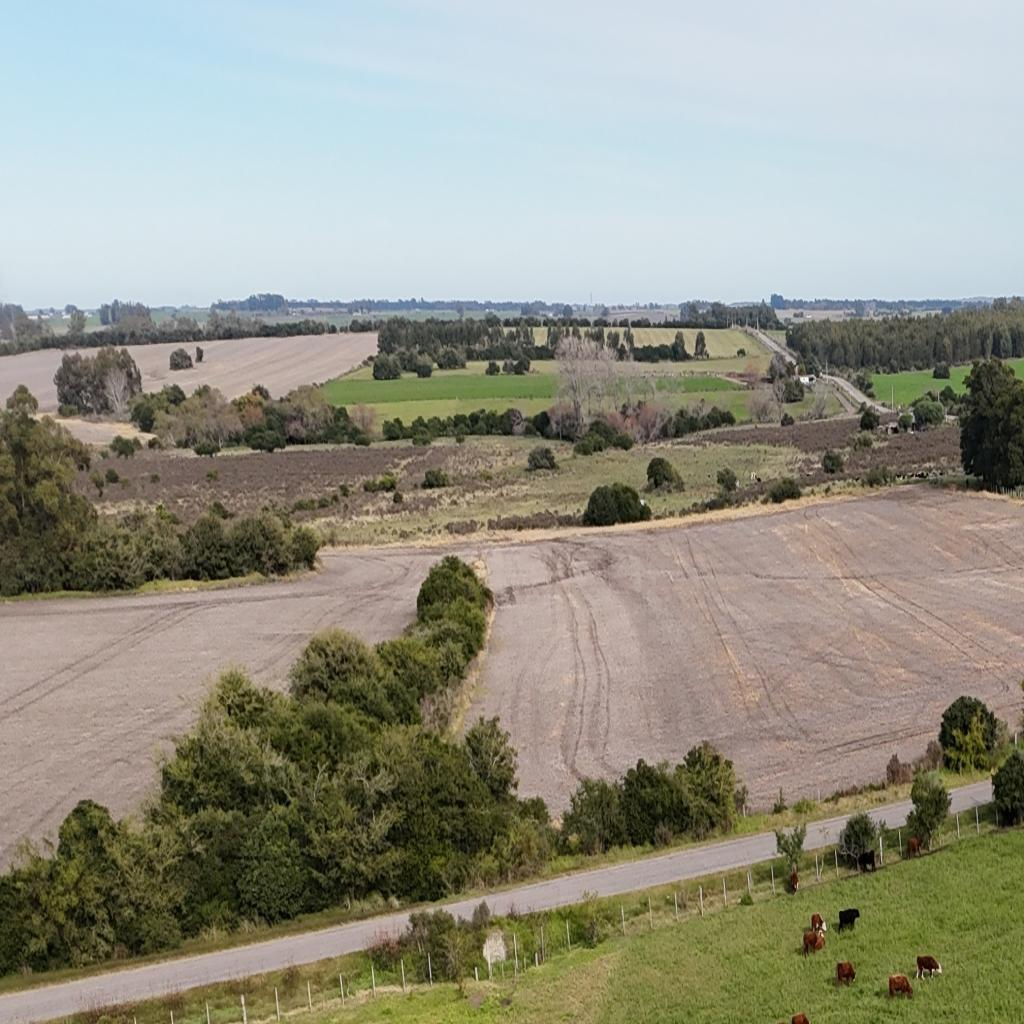cow: (916, 955, 944, 981), (889, 974, 914, 999), (836, 960, 857, 988), (838, 907, 860, 933), (858, 850, 876, 874), (804, 932, 820, 956), (906, 837, 922, 859), (811, 912, 828, 930), (815, 928, 827, 947), (792, 1012, 810, 1024), (790, 870, 798, 894)
